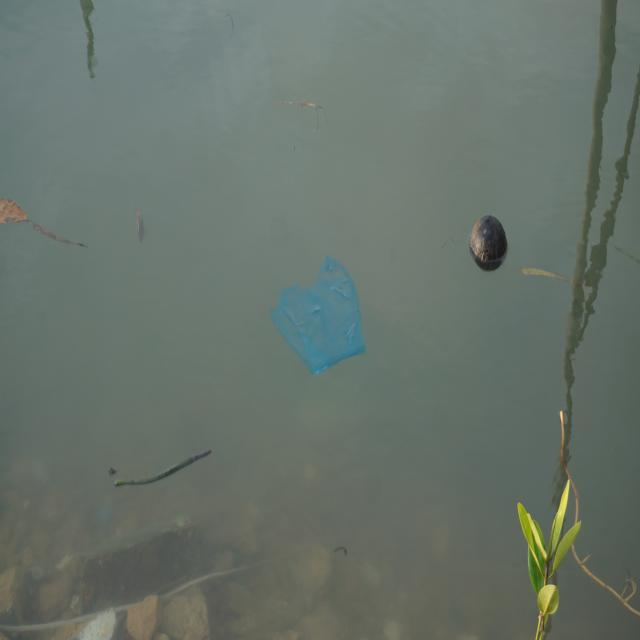Kantong Plastik: (267, 251, 373, 380)
